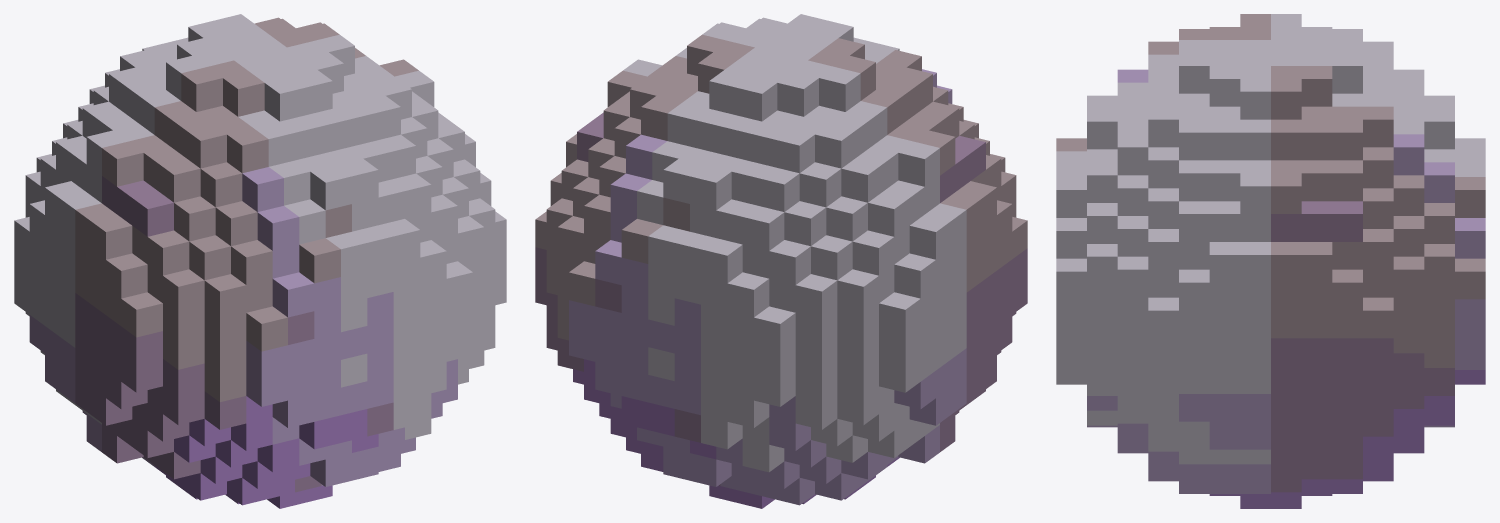
The model's file is volleyball.glb.
The picture shows the model from 3 angles, left to right: view 1: azimuth 30°, elevation 25°; view 2: azimuth 150°, elevation 25°; view 3: azimuth 270°, elevation 25°; orthographic projection.
Parts seen in each view (by area): view 1: prop; view 2: prop; view 3: prop.
Boxes of the visible parts, left/top/right/bottom form: prop: left=14, top=14, right=506, bottom=508; prop: left=535, top=14, right=1027, bottom=508; prop: left=1056, top=14, right=1485, bottom=508.
Size of the model in its own units: 14.93 by 16 by 14.93.
